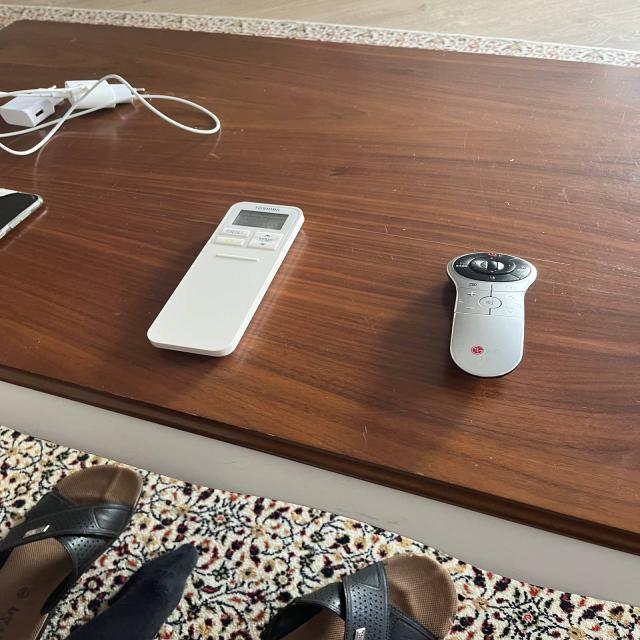remote: (137, 188, 310, 372), (432, 247, 554, 381)
